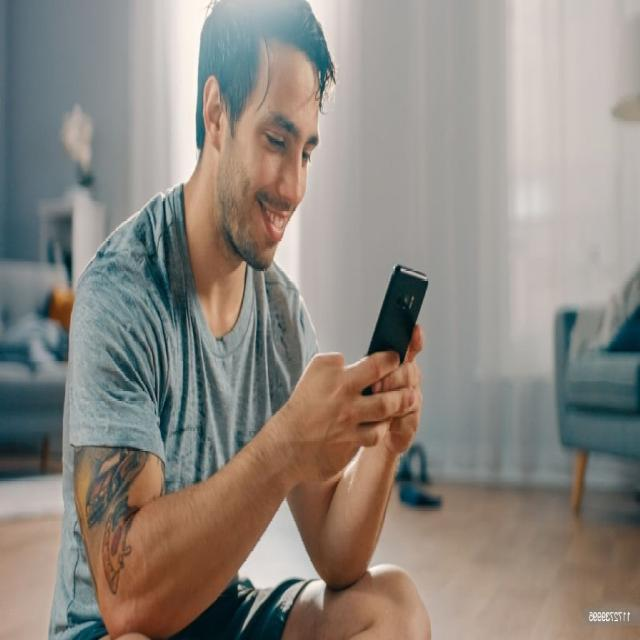phone: (361, 264, 428, 395)
